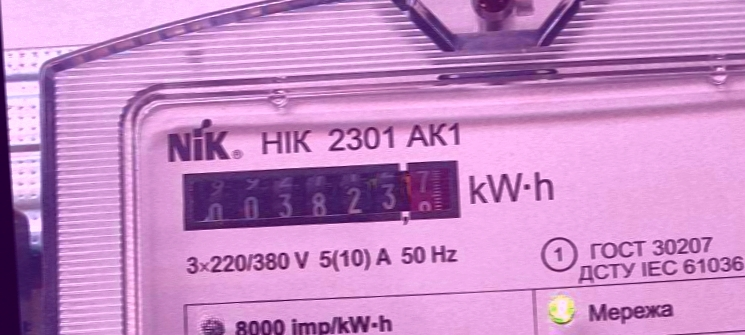0: (238, 193, 260, 221), (204, 199, 224, 223)
2: (343, 184, 364, 217)
3: (377, 181, 397, 212), (274, 189, 294, 219)
7: (414, 169, 431, 198)
8: (308, 189, 327, 218)
9: (205, 178, 224, 198)
screen: (172, 152, 464, 241)
